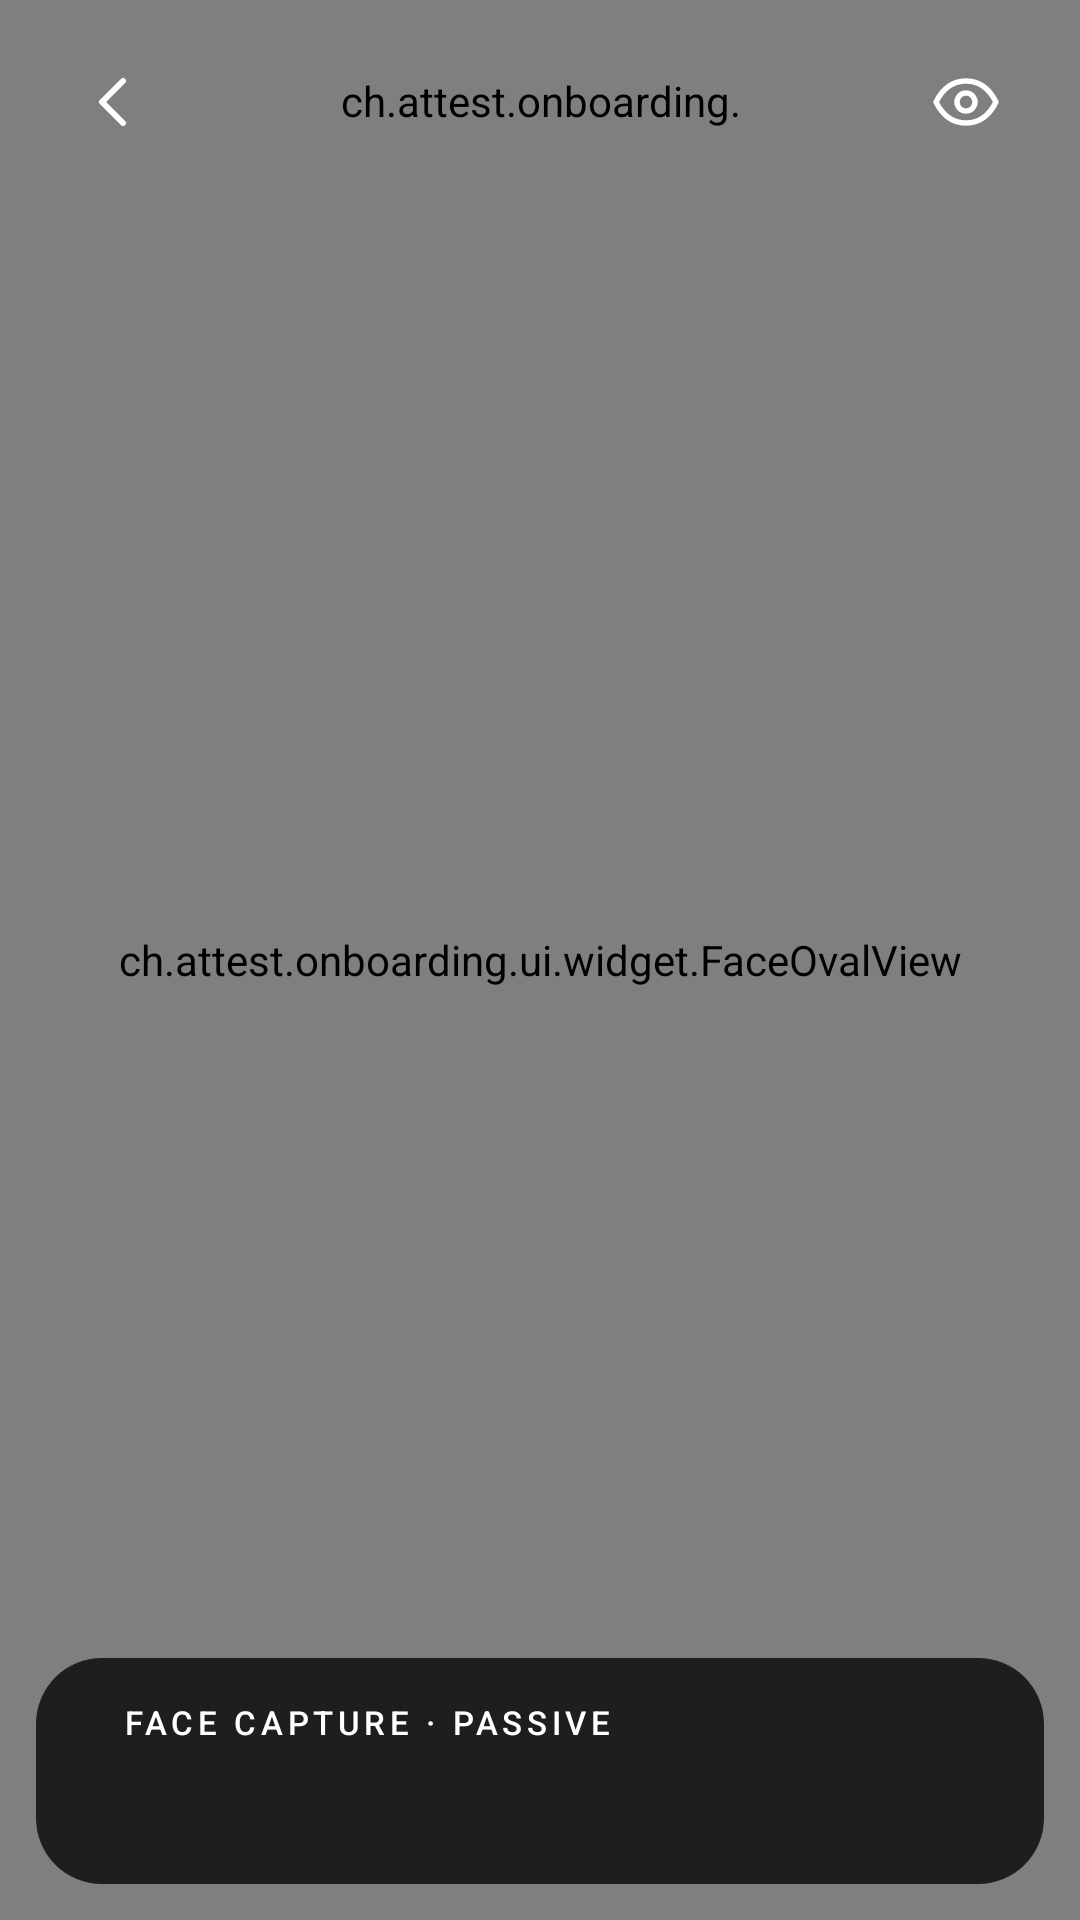

Point at icon controls on the screen. Image size 1080 x 1920, points as (x=x, y=y).
Back: (x=112, y=102)
Verbose view: (x=966, y=102)
